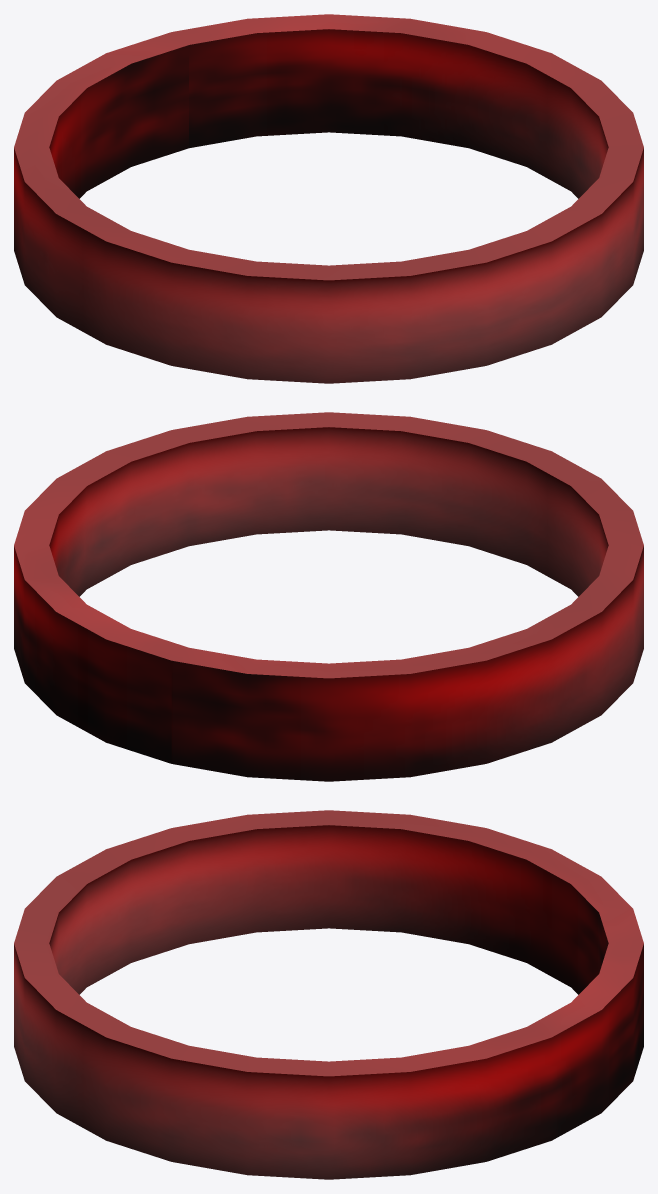
Rendered from basket_add_2.fbx.
3 renders of one model, top to bottom at view 1: azimuth 30°, elevation 25°; view 2: azimuth 150°, elevation 25°; view 3: azimuth 270°, elevation 25°, orthographic.
Parts seen in each view (by area): view 1: cylinder; view 2: cylinder; view 3: cylinder.
Part boxes in pixels (<box>): cylinder: <box>14,14,643,383</box>; cylinder: <box>14,412,643,781</box>; cylinder: <box>14,810,643,1179</box>.
Size of the model in its own units: 2 by 0.3618 by 2.
